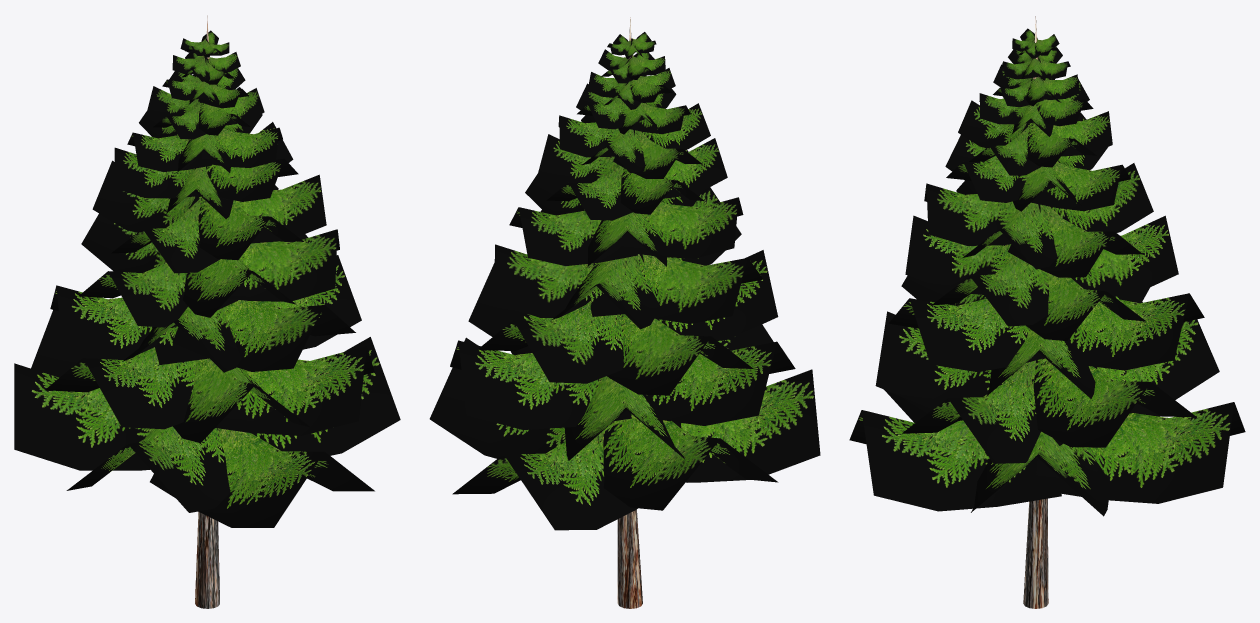
The model's file is pino.glb.
3 views of the same model, side by side, from view 1: azimuth 30°, elevation 25°; view 2: azimuth 150°, elevation 25°; view 3: azimuth 270°, elevation 25° (orthographic).
Parts seen in each view (by area): view 1: pCylinder2_Fir_Tree_Branch_0_6, pCylinder2_fir_trunk_0_5; view 2: pCylinder2_Fir_Tree_Branch_0_6, pCylinder2_fir_trunk_0_5; view 3: pCylinder2_Fir_Tree_Branch_0_6, pCylinder2_fir_trunk_0_5.
Boxes of the visible parts, x1,y1,x2,y2 form: pCylinder2_Fir_Tree_Branch_0_6: (14, 30, 400, 527); pCylinder2_fir_trunk_0_5: (195, 15, 219, 608); pCylinder2_Fir_Tree_Branch_0_6: (429, 32, 820, 530); pCylinder2_fir_trunk_0_5: (617, 17, 642, 608); pCylinder2_Fir_Tree_Branch_0_6: (849, 28, 1245, 516); pCylinder2_fir_trunk_0_5: (1023, 16, 1048, 608).
Size of the model in its own units: 366 by 610 by 372.
2 materials, 2 textured.
